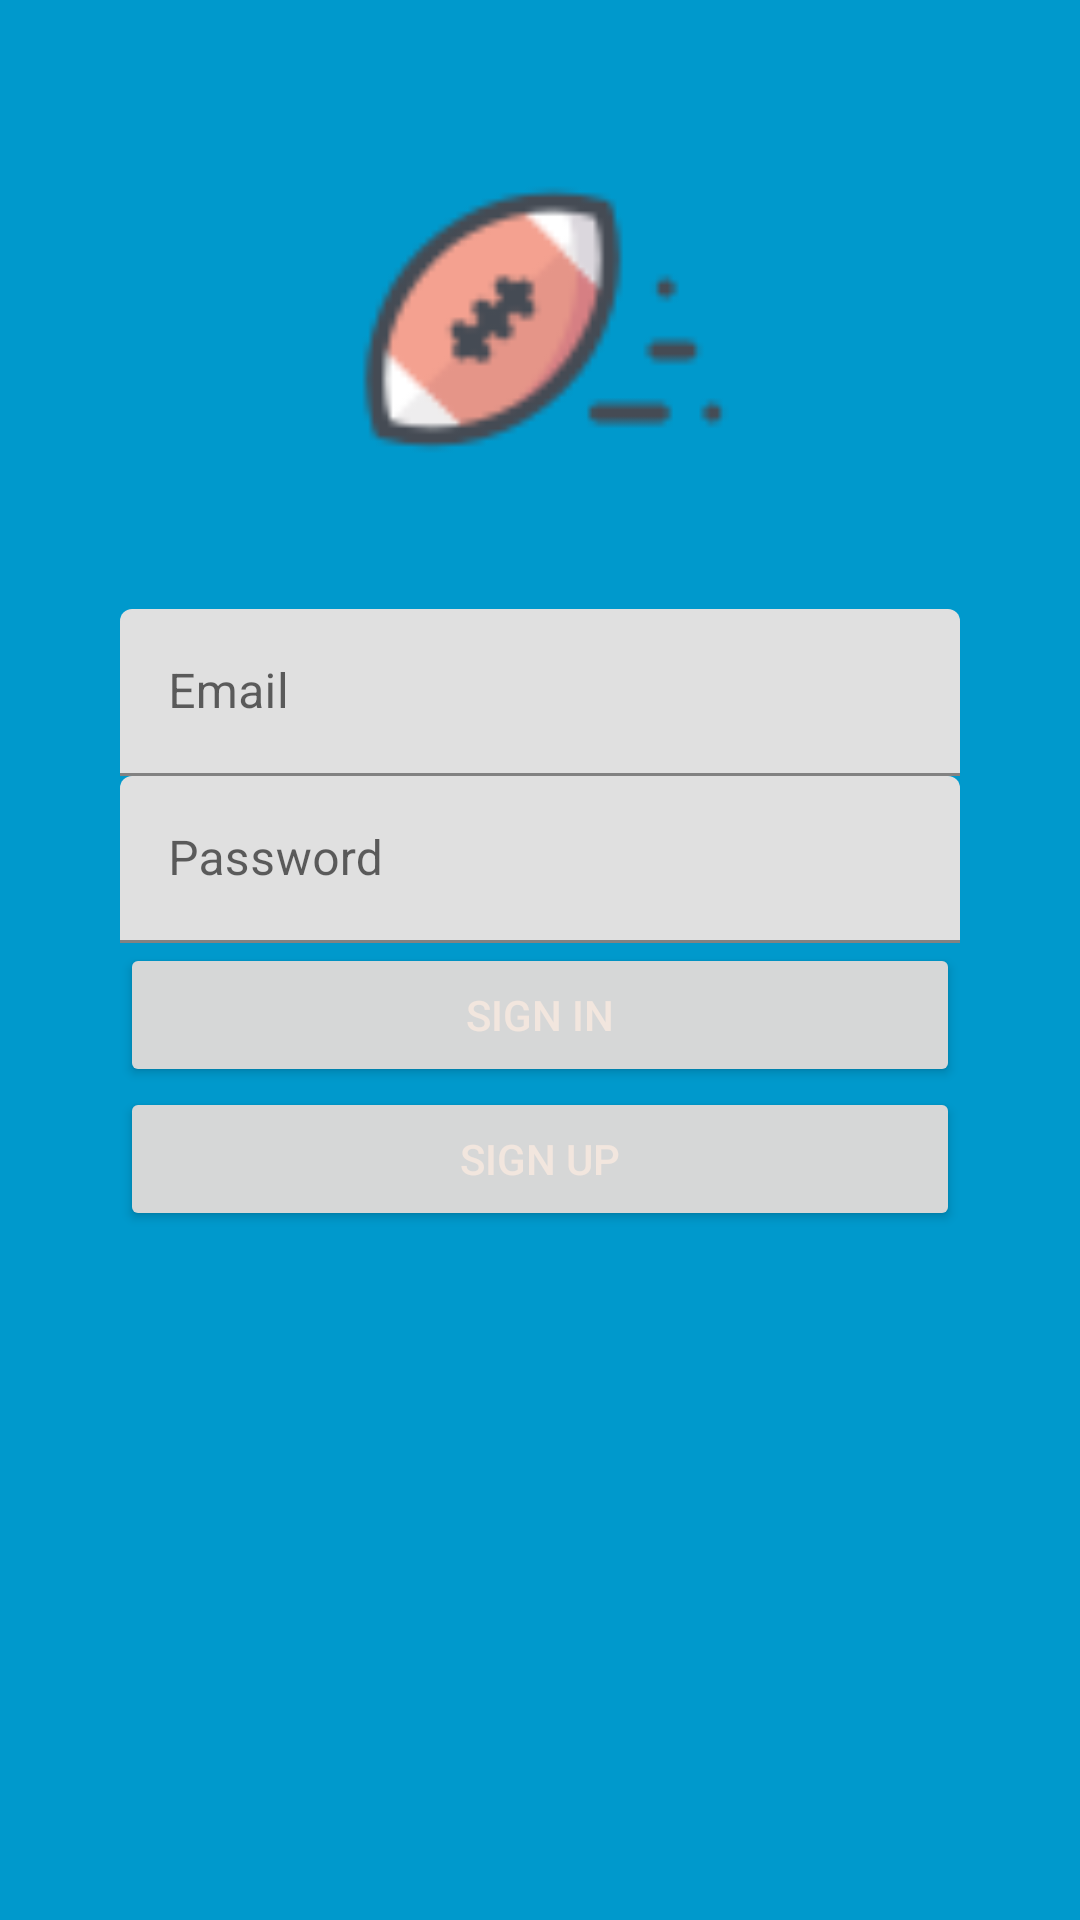

Named icons in this screenshot (1080 × 1920) and their bounding boxes, {"left": x1, "top": y1, "right": x2, "bottom": y2}:
icobfall: {"left": 363, "top": 190, "right": 723, "bottom": 447}
